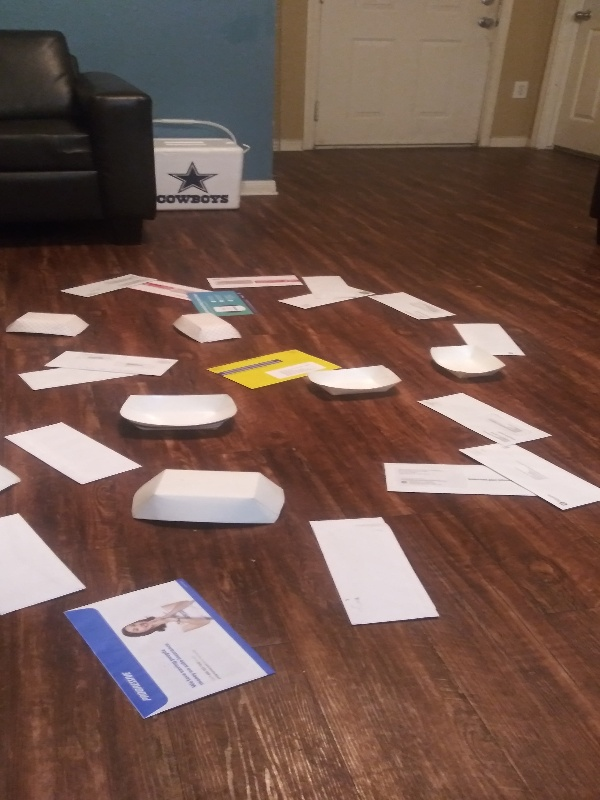plate: (128, 466, 287, 529), (119, 389, 240, 437), (303, 361, 404, 402), (425, 344, 511, 385), (168, 309, 245, 346), (5, 310, 93, 339)
